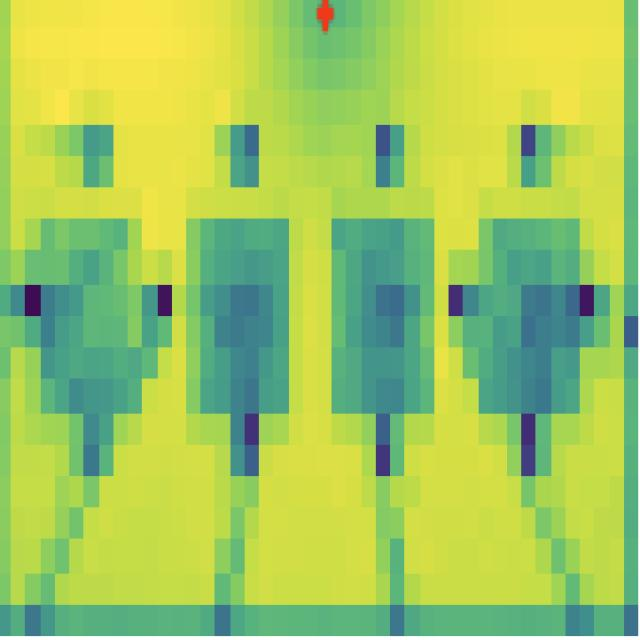Concrete: (324, 182, 439, 446)
Glass: (180, 198, 299, 436)
Metal: (467, 190, 590, 448)
Wood: (20, 195, 160, 464)
